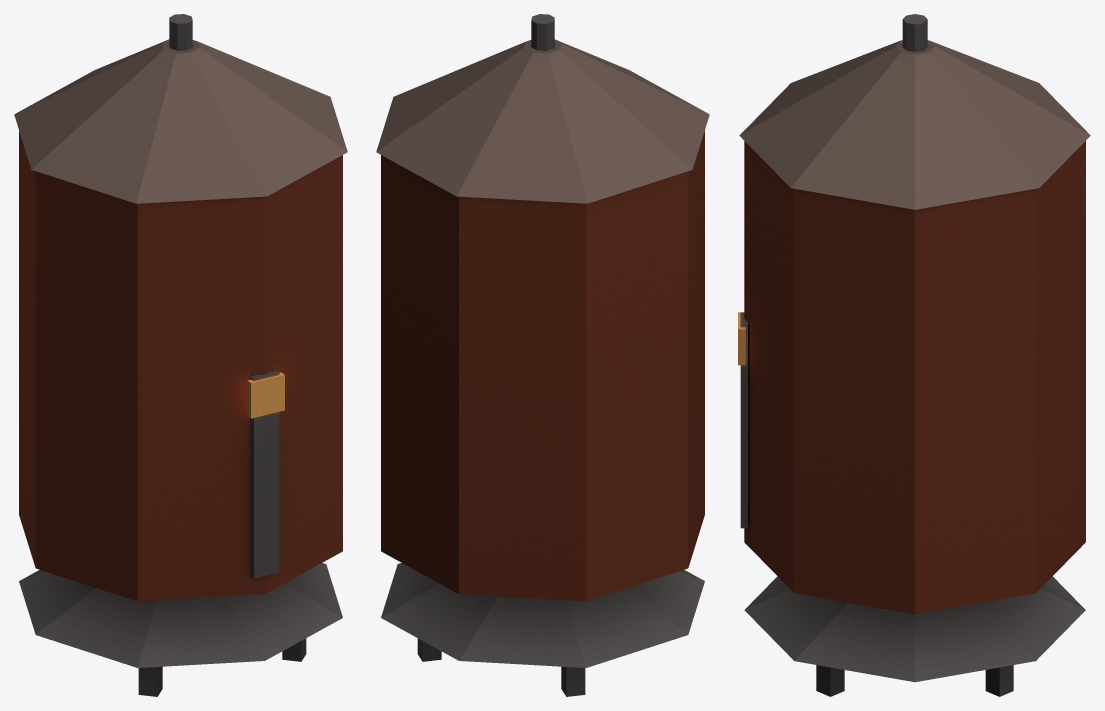
The model's file is ore_tank_2_kiln.glb.
3 views of the same model, side by side, from view 1: azimuth 30°, elevation 25°; view 2: azimuth 150°, elevation 25°; view 3: azimuth 270°, elevation 25° (orthographic).
Parts seen in each view (by area): view 1: Cone; view 2: Cone; view 3: Cone.
Part boxes in pixels (box(x1,y1,x2,y2)): Cone: box(14, 14, 347, 696); Cone: box(376, 14, 709, 696); Cone: box(738, 14, 1090, 696).
Bounding box in the file's own units: 14.1 × 28.15 × 14.15.
1 material, 1 textured.
